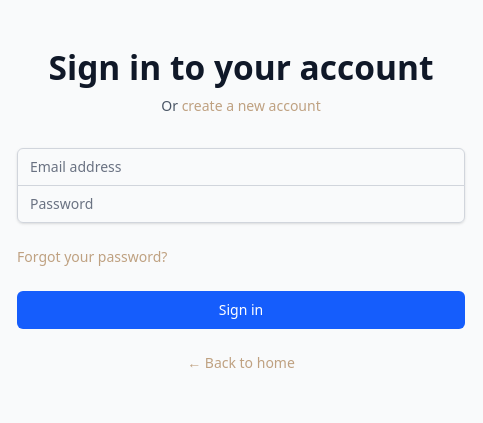
Test case: Login › form submission › should clear previous error on new submission
Note: First submission with error
Type "test@example.com" into the field labelled "Email address" at (241, 167), box [17,148,465,186]
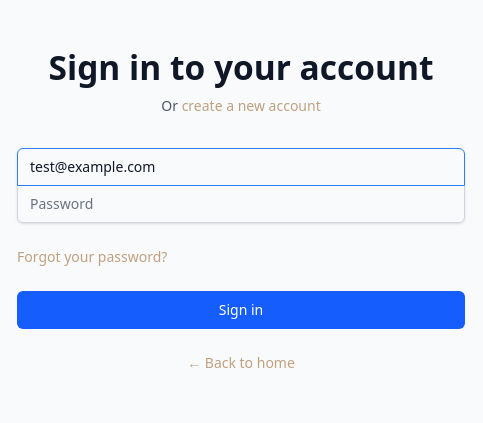
Type "wrongpassword" into the password field labelled "Password" at (241, 204), box [17,185,465,223]
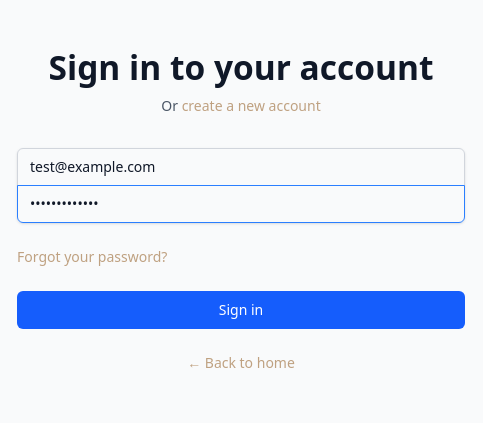
Click the button "Sign in" at (241, 310), box [17,291,465,329]
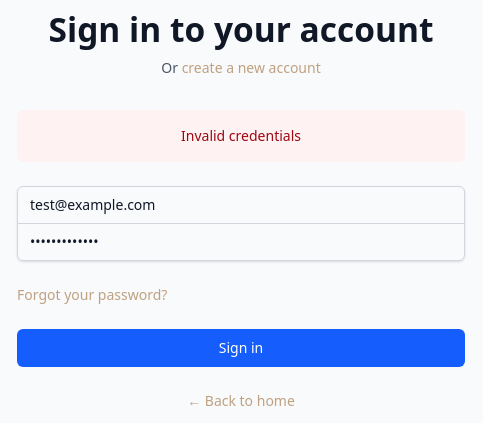
Now the text "Invalid credentials" is shown, box [181,126,301,145]
Type "correctpassword" into the password field named "Password" at (241, 242), box [17,223,465,261]
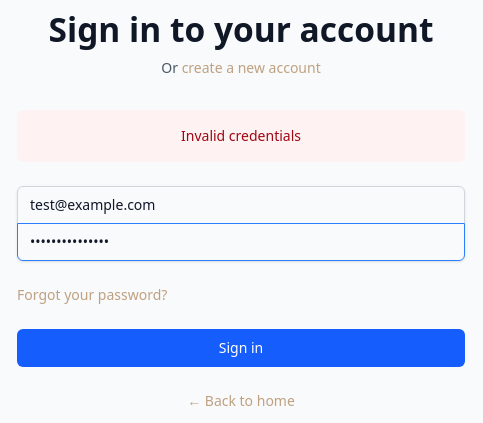
Click the button "Sign in" at (241, 348), box [17,329,465,367]
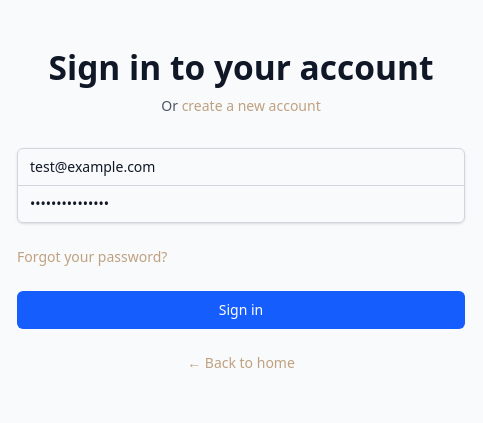
Now the text "Invalid credentials" is gone
